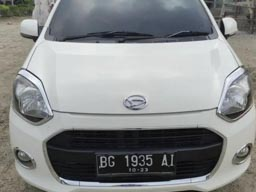plat: (96, 154, 175, 167)
